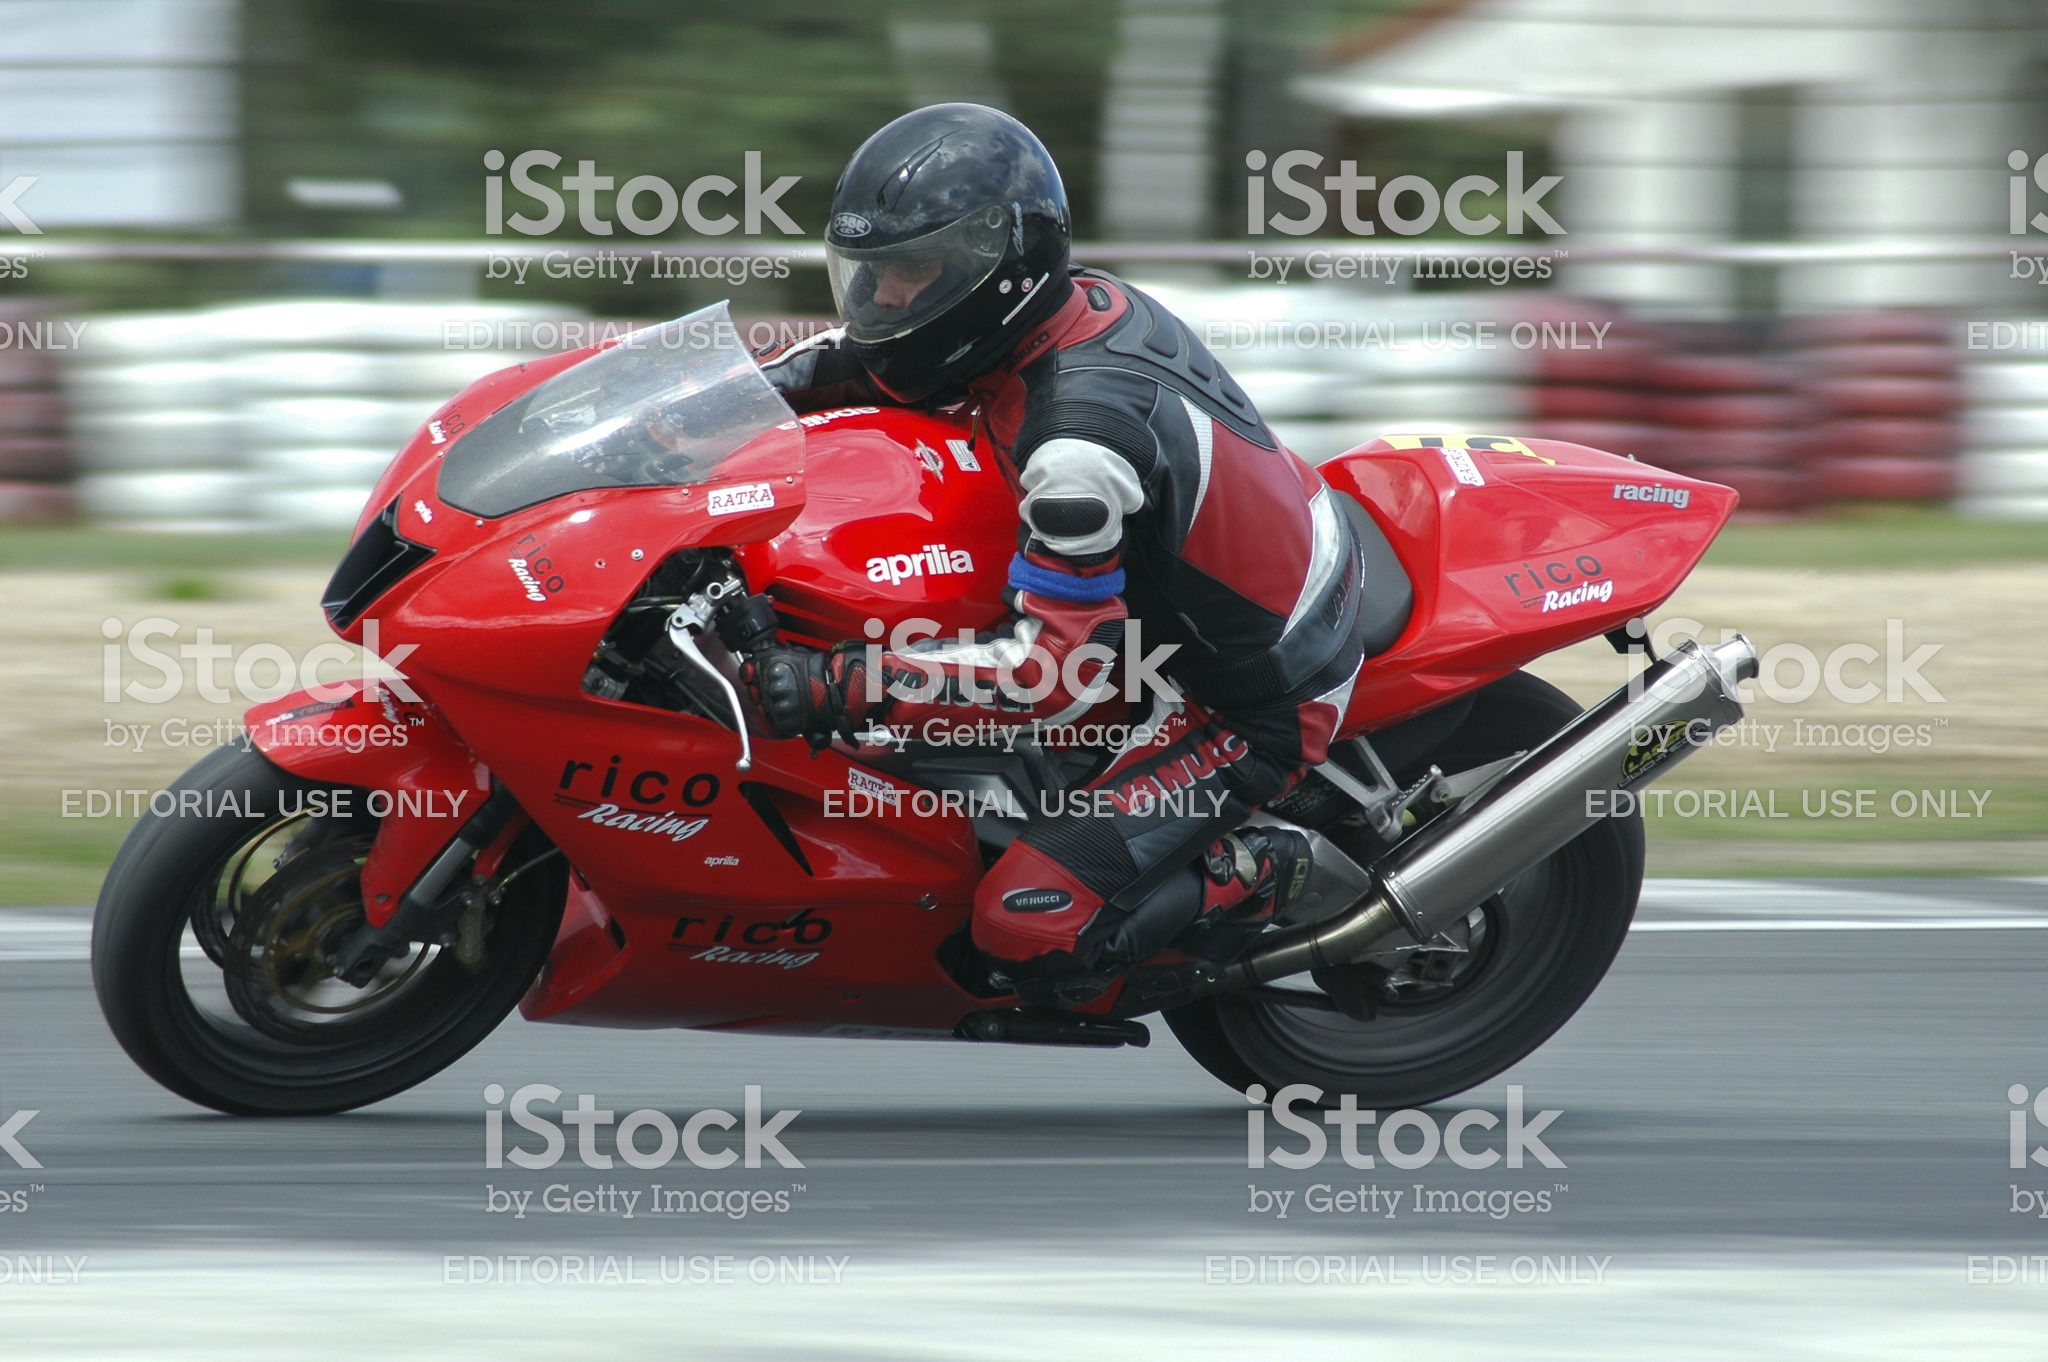helmet: (811, 100, 1100, 359)
